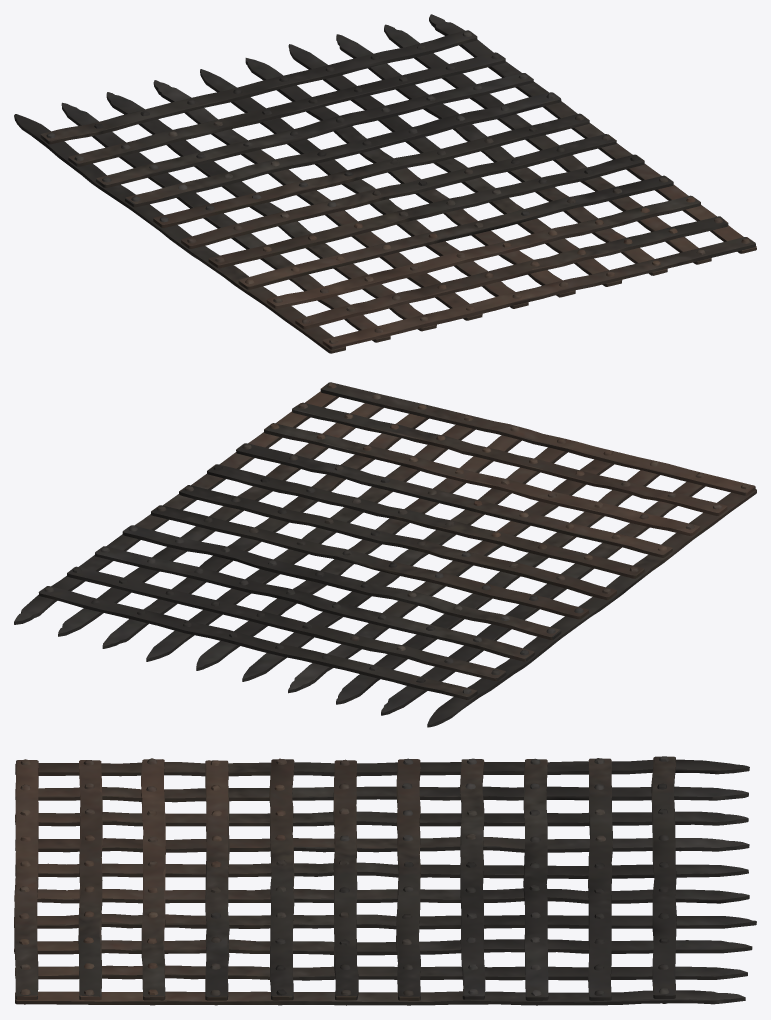
The model's file is Portcullis_01.fbx.
The picture shows the model from 3 angles, top to bottom: view 1: azimuth 30°, elevation 25°; view 2: azimuth 150°, elevation 25°; view 3: azimuth 270°, elevation 25°; orthographic projection. The views are drawn at different scales.
Parts seen in each view (by area): view 1: Portcullis_01; view 2: Portcullis_01; view 3: Portcullis_01.
Boxes of the visible parts, x1=… form: Portcullis_01: x1=14, y1=14, x2=756, y2=353; Portcullis_01: x1=14, y1=382, x2=756, y2=727; Portcullis_01: x1=14, y1=756, x2=756, y2=1005.
Size of what is drawn, in the model's own units: 639 by 21.7 by 833.
